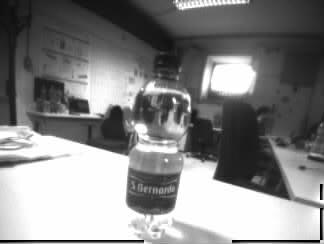Bottle: (127, 55, 189, 240)
